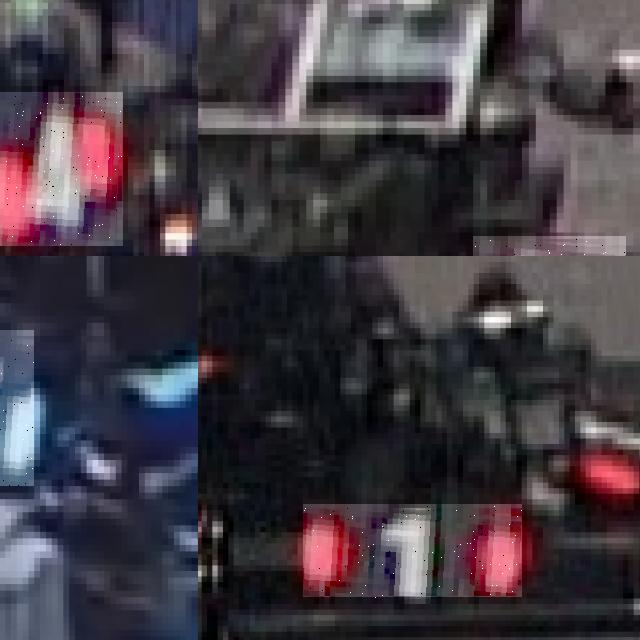B5: (0, 329, 34, 486)
R1: (303, 504, 522, 598), (473, 236, 626, 256)
R4: (0, 92, 122, 245)
